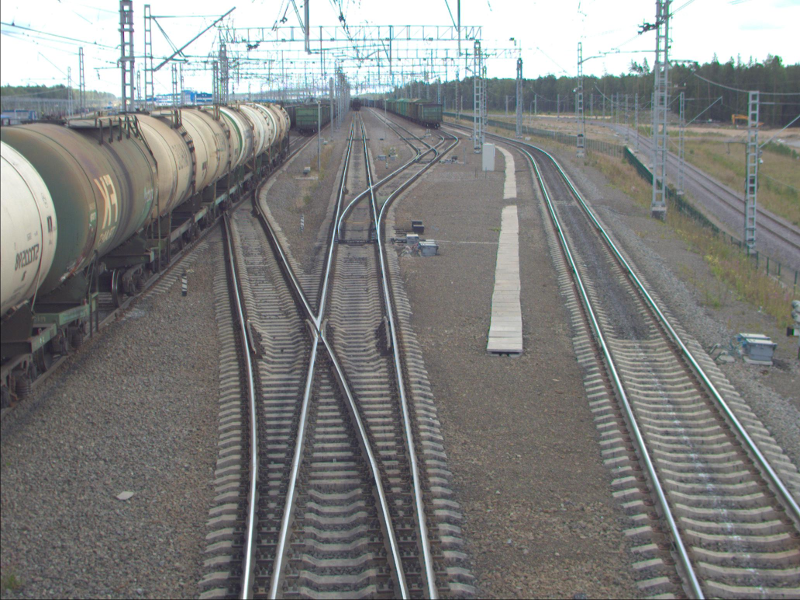left: (333, 184, 380, 242)
